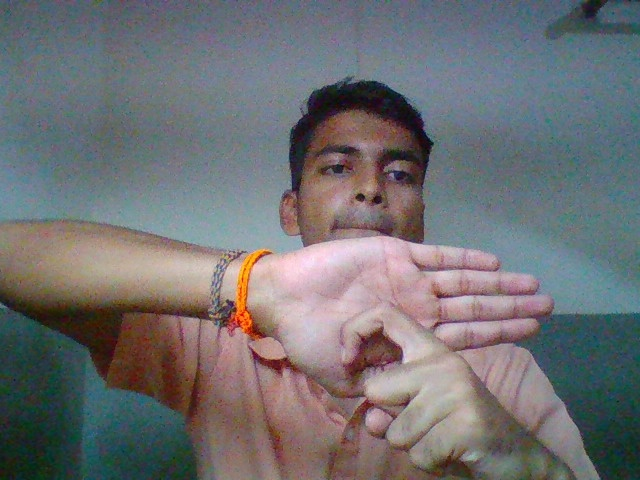R: (256, 233, 572, 477)
